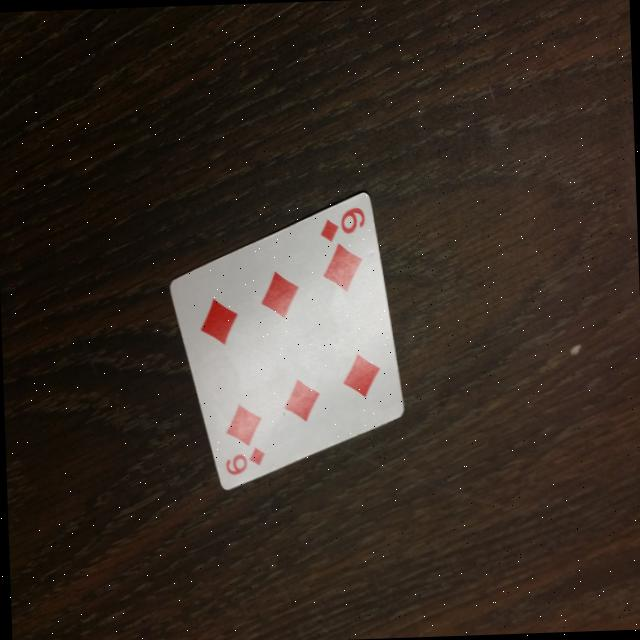6d: (309, 200, 374, 253), (218, 430, 274, 479)
